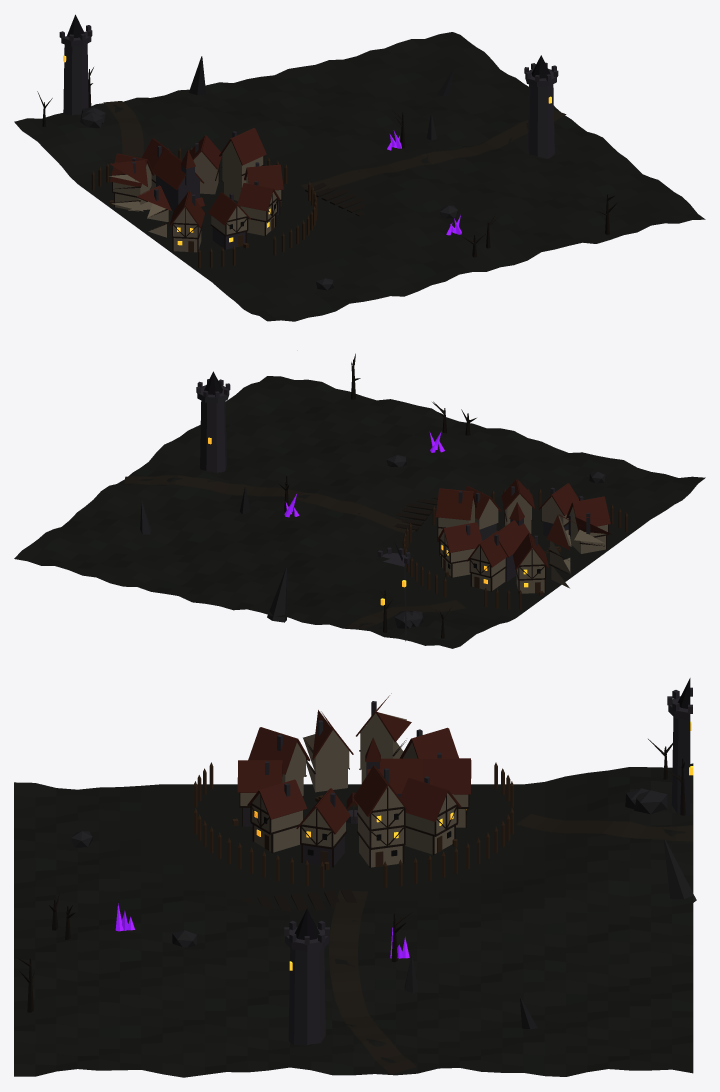
File: chunk-2-3.glb
The picture shows the model from 3 angles, top to bottom: view 1: azimuth 30°, elevation 25°; view 2: azimuth 150°, elevation 25°; view 3: azimuth 270°, elevation 25°; orthographic projection. The views are drawn at different scales.
Visible parts, largest first — view 1: Ash_Ground, Roof_Tile, Castle_Stone, Plaster, Dirt_Road, Dark_Rock, Old_Wood, Timber, Dead_Wood, Farm_Soil, Roof_Slate; view 2: Ash_Ground, Roof_Tile, Plaster, Castle_Stone, Dirt_Road, Dark_Rock, Old_Wood, Timber, Dead_Wood, Farm_Soil; view 3: Ash_Ground, Roof_Tile, Plaster, Castle_Stone, Dirt_Road, Old_Wood, Dark_Rock, Timber, Dead_Wood, Farm_Soil, Roof_Slate.
Boxes of the visible parts, x1,y1,x2,y2 form: Ash_Ground: (14,32,705,321); Roof_Tile: (109,128,283,228); Castle_Stone: (59,25,558,249); Plaster: (109,141,281,252); Dirt_Road: (103,101,566,191); Dark_Rock: (80,56,457,290); Old_Wood: (91,147,317,268); Timber: (111,156,282,252); Dead_Wood: (37,67,617,257); Farm_Soil: (305,182,364,216); Roof_Slate: (67,14,550,78); Ash_Ground: (14,376,705,648); Roof_Tile: (435,479,612,569); Plaster: (438,494,607,593); Castle_Stone: (196,379,590,641); Dirt_Road: (124,475,465,629); Dark_Rock: (140,455,605,628); Old_Wood: (402,488,627,609); Timber: (437,508,608,594); Dead_Wood: (278,353,476,638); Farm_Soil: (394,496,438,531); Ash_Ground: (14,763,693,1077); Roof_Tile: (237,693,471,834); Plaster: (240,713,468,867); Castle_Stone: (243,687,692,1045); Dirt_Road: (329,814,693,1074); Old_Wood: (193,762,513,887); Dark_Rock: (71,788,696,1029); Timber: (239,739,469,867); Dead_Wood: (16,739,685,1012); Farm_Soil: (241,889,357,911); Roof_Slate: (294,678,690,939).
Size of what is drawn, in the model's own units: 83.78 by 20.32 by 81.49.
